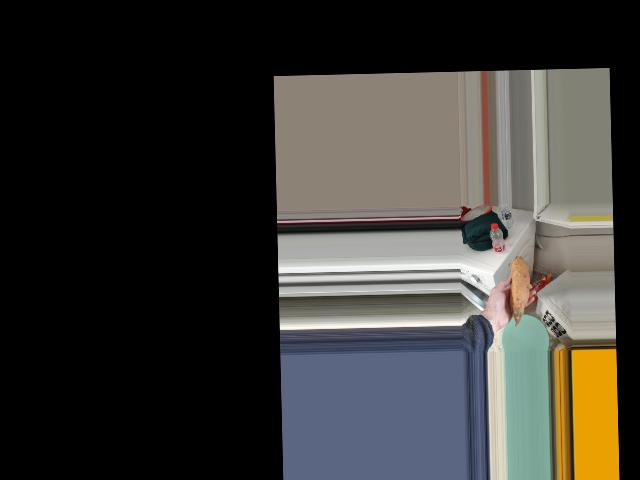sweet_potato: (505, 250, 529, 312)
